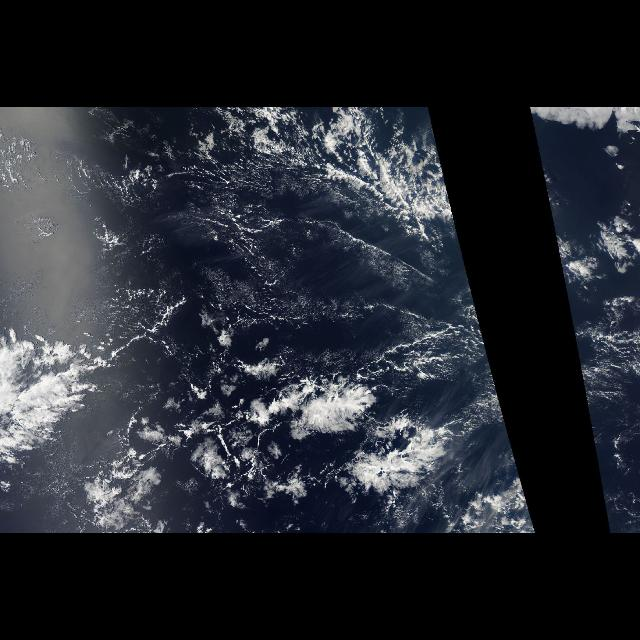Fish: (206, 110, 447, 250)
Flower: (132, 344, 288, 528)
Sugar: (165, 181, 409, 335)
